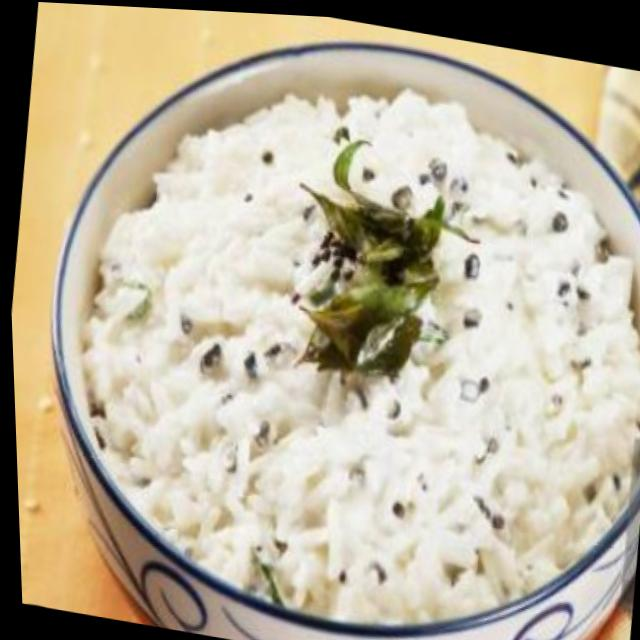CURD RICE: (78, 77, 640, 626)
